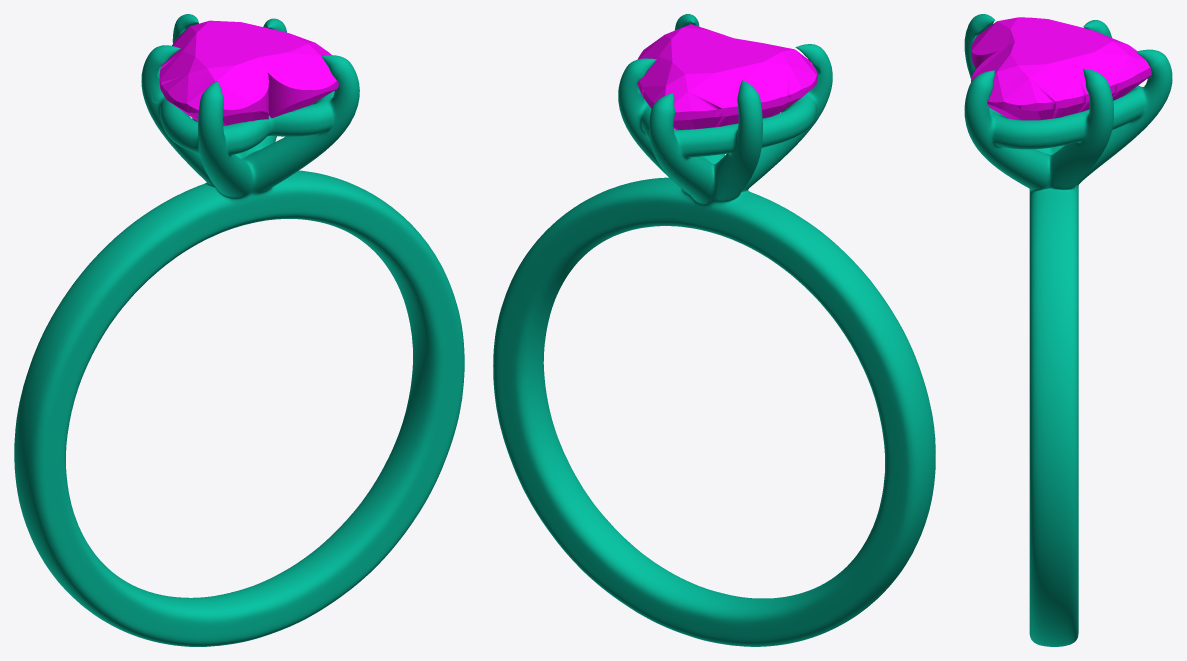
File: BE1FM13_HT_200ct_RENDER.glb
3 renders of one model, left to right at view 1: azimuth 30°, elevation 25°; view 2: azimuth 150°, elevation 25°; view 3: azimuth 270°, elevation 25°, orthographic. The views are drawn at different scales.
Parts seen in each view (by area): view 1: Metal 01, CS_Diamond_Heart; view 2: Metal 01, CS_Diamond_Heart; view 3: Metal 01, CS_Diamond_Heart.
Part boxes in pixels (x1,y1,x2,y2): Metal 01: (14, 14, 464, 646); CS_Diamond_Heart: (159, 20, 338, 125); Metal 01: (493, 14, 935, 646); CS_Diamond_Heart: (637, 24, 817, 130); Metal 01: (964, 14, 1172, 646); CS_Diamond_Heart: (971, 17, 1151, 120).
Bounding box in the file's own units: 20.09 × 26.1 × 8.45.
